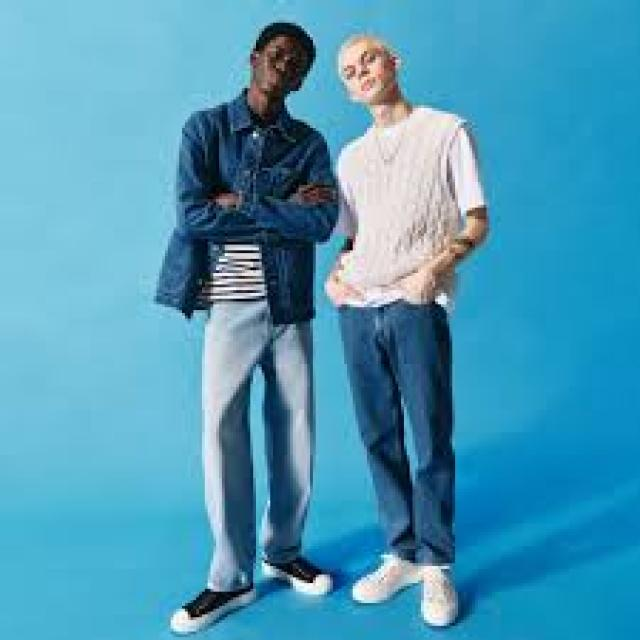standing: (151, 19, 339, 640), (335, 32, 494, 633)
